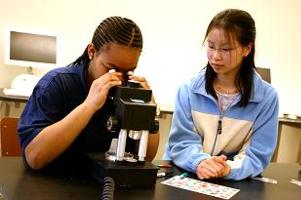person: (19, 17, 160, 172)
